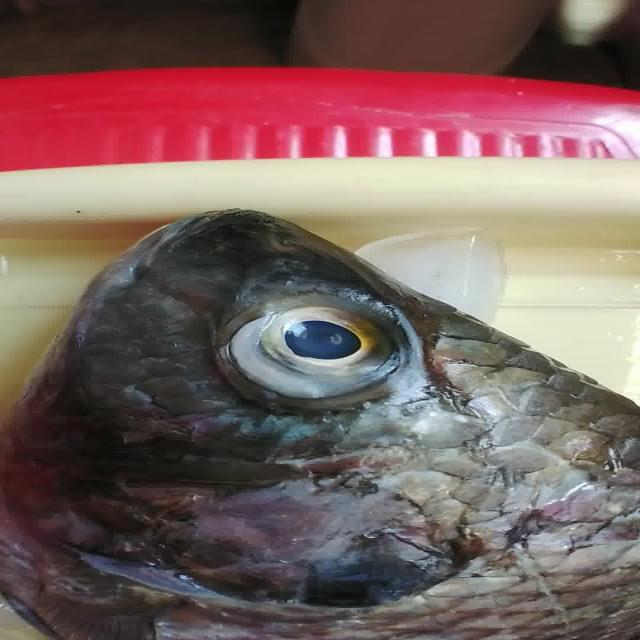Fresh: (190, 279, 482, 427)
